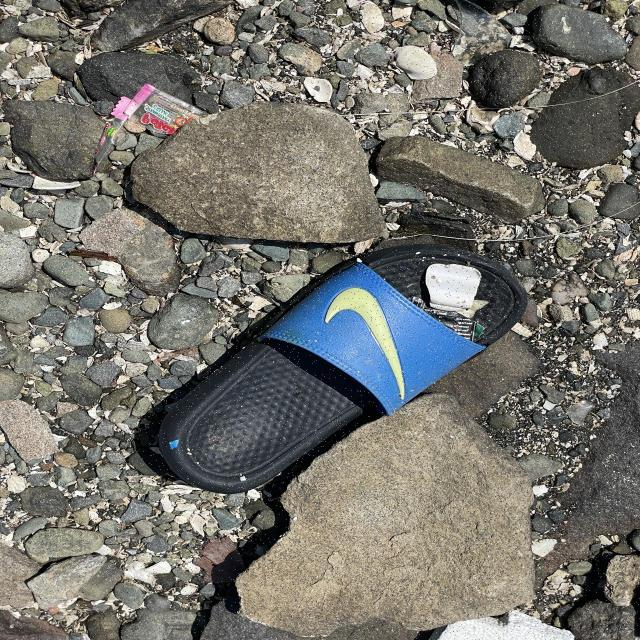plastic_waste: (114, 82, 209, 134)
rubber_waste: (156, 259, 498, 492)
styrofoam_waste: (401, 612, 581, 640)
